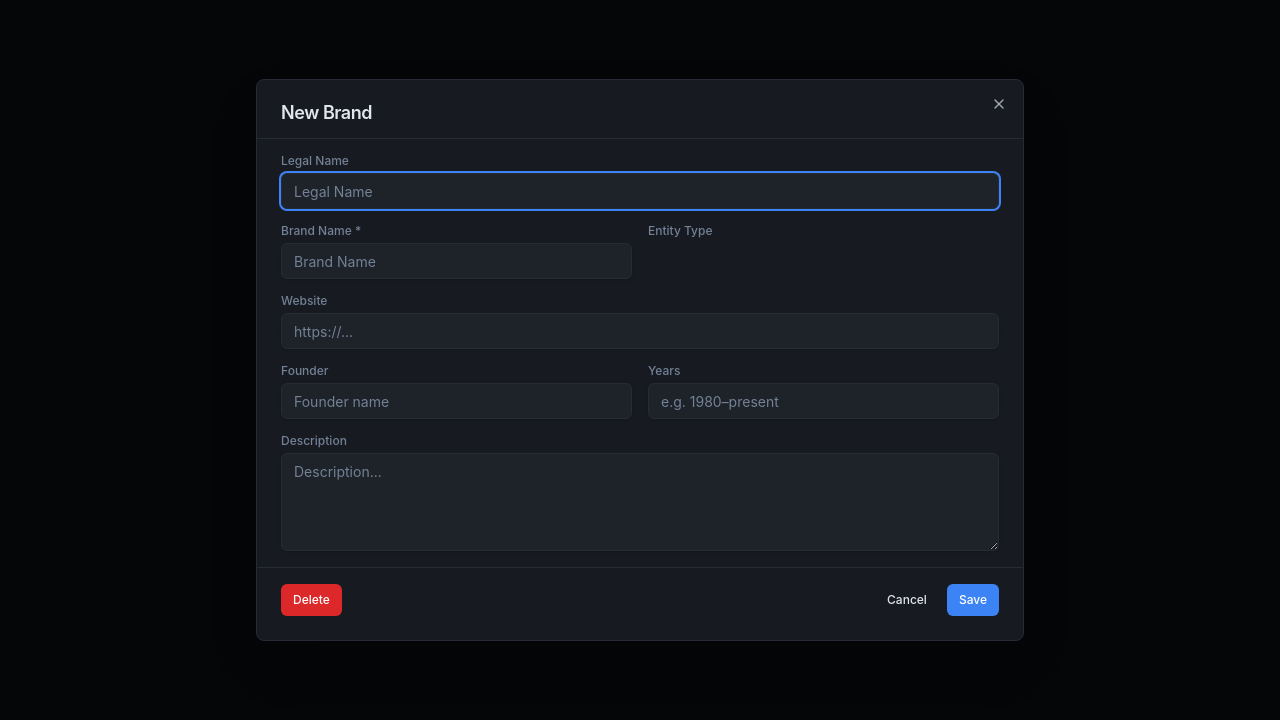
BrandModal — create mode › shows error message when create fails
Step 1. Click the button "Save" → (973, 600), box 947,584 -> 999,616
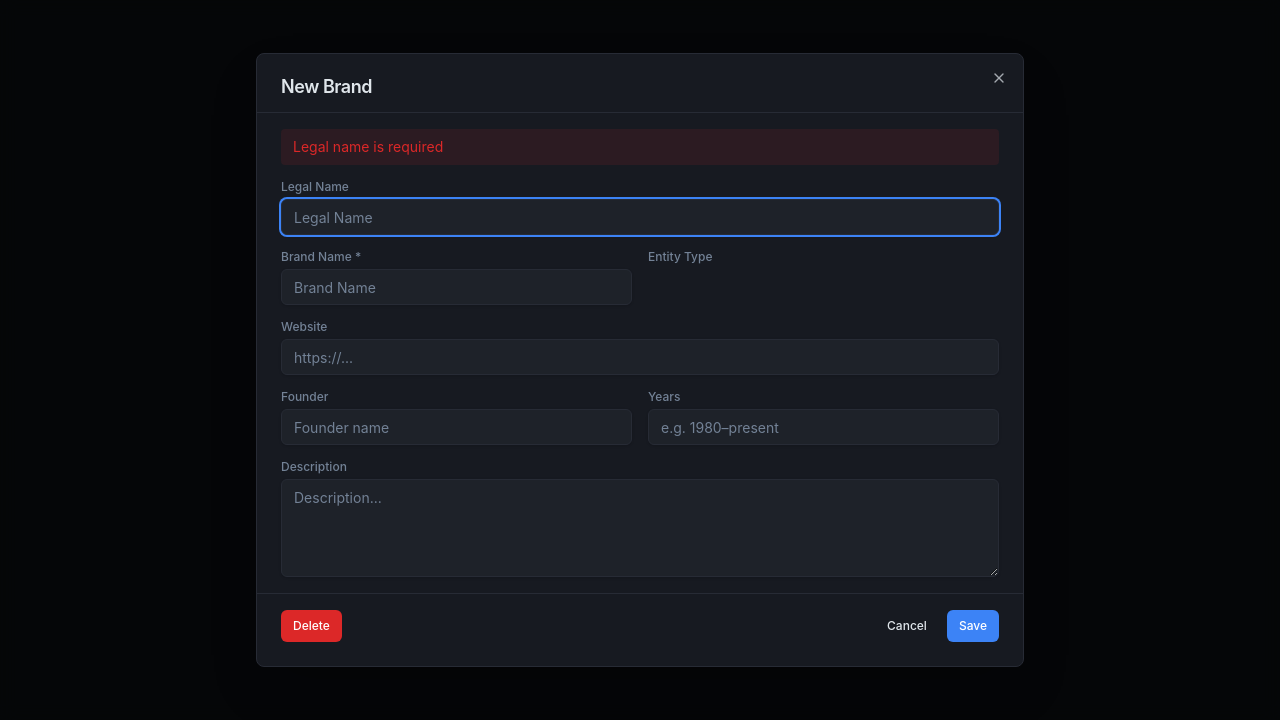
Expected: the text "Legal name is required" is shown, 281,129 -> 999,165
